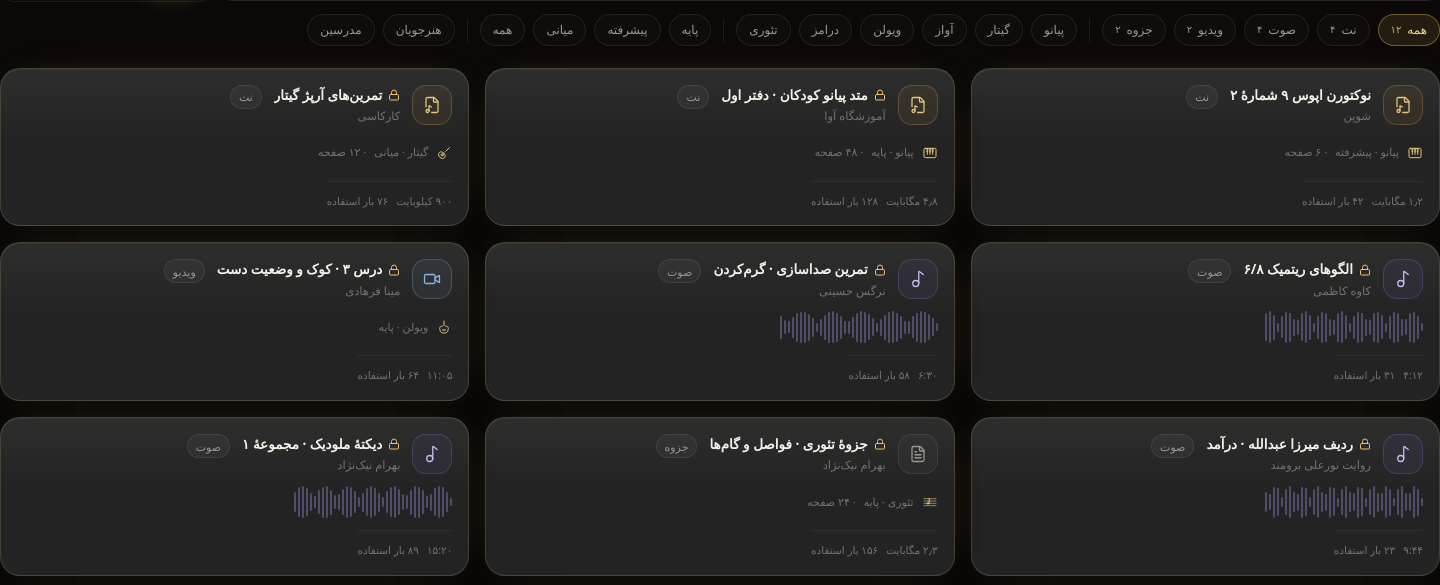
Test: G-7 · searching a library by teacher › shows the attributed teacher in the record's metadata
(page scrolled)
Click the button "تمرین صداسازی · گرم‌کردن": (918, 279) [485,242,955,401]
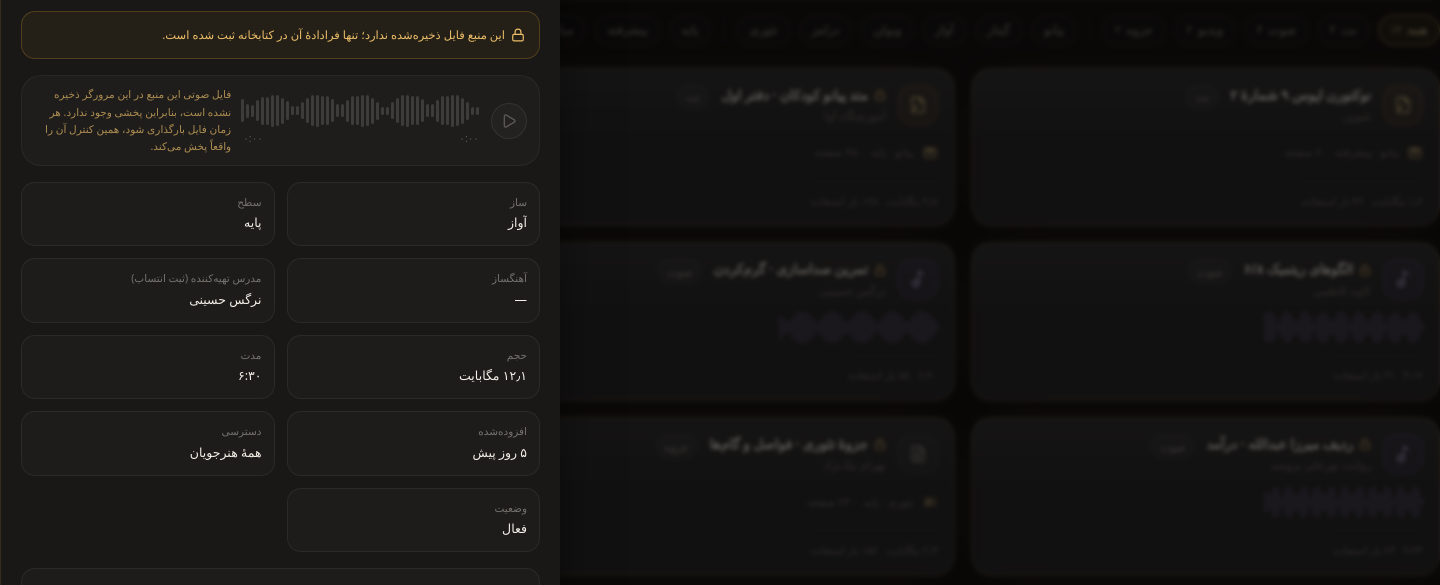
Expected: the text "مدرس تهیه‌کننده (ثبت انتساب)" is shown, [131,271,262,285]
